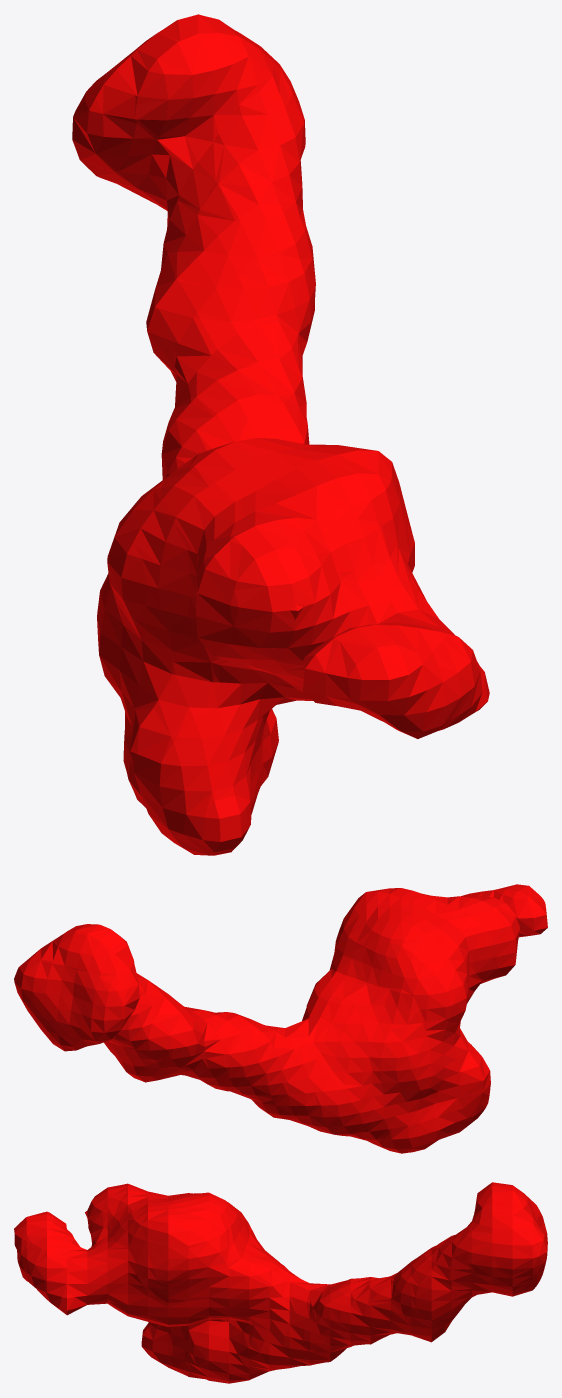
The model's file is soxR_coarse.dae.
The picture shows the model from 3 angles, top to bottom: view 1: azimuth 30°, elevation 25°; view 2: azimuth 150°, elevation 25°; view 3: azimuth 270°, elevation 25°; orthographic projection. The views are drawn at different scales.
Visible parts, largest first — view 1: soxR; view 2: soxR; view 3: soxR.
Part boxes in pixels (bbox=[...]): soxR: bbox=[72, 14, 489, 855]; soxR: bbox=[14, 884, 547, 1153]; soxR: bbox=[14, 1182, 547, 1383].
Size of the model in its own units: 53.08 by 54.93 by 102.
